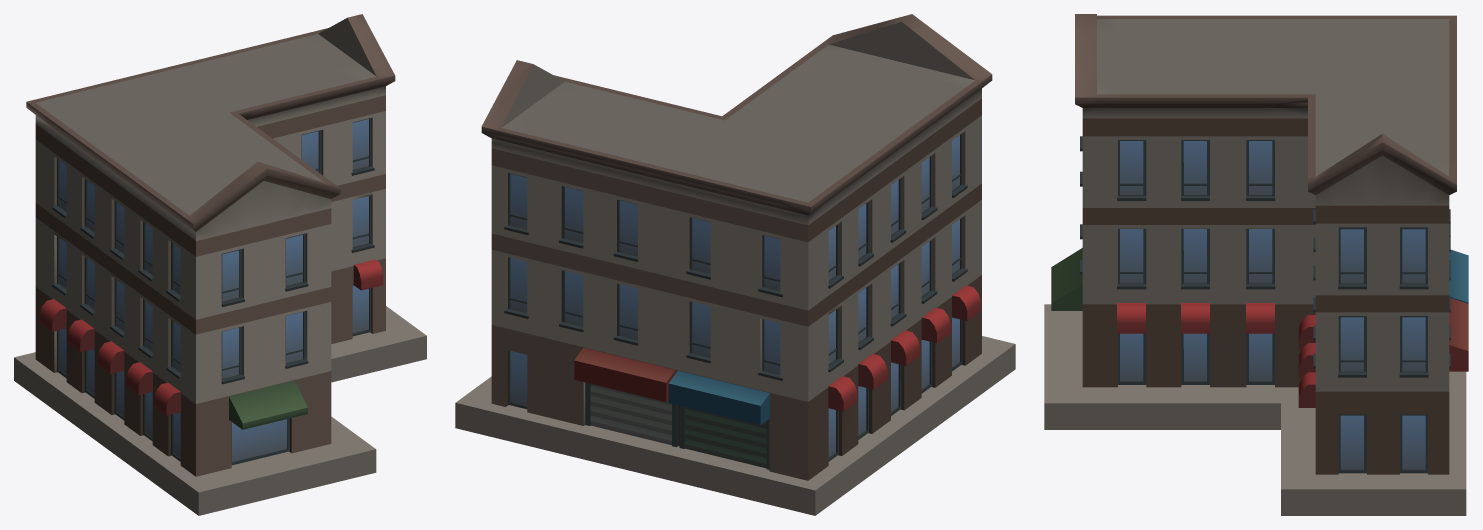
File: Business_CommercialBuilding_alt04.glb
3 renders of one model, left to right at view 1: azimuth 30°, elevation 25°; view 2: azimuth 150°, elevation 25°; view 3: azimuth 270°, elevation 25°, orthographic. The views are drawn at different scales.
Parts seen in each view (by area): view 1: base.078, windowRefl.060, color.007; view 2: base.078, windowRefl.060, color.007; view 3: base.078, windowRefl.060, color.007.
Boxes of the visible parts, left/top/right/bottom form: base.078: left=14, top=14, right=426, bottom=515; windowRefl.060: left=59, top=119, right=368, bottom=462; color.007: left=39, top=259, right=383, bottom=429; base.078: left=455, top=14, right=1015, bottom=515; windowRefl.060: left=510, top=135, right=959, bottom=457; color.007: left=574, top=285, right=980, bottom=425; base.078: left=1044, top=14, right=1466, bottom=515; windowRefl.060: left=1120, top=141, right=1425, bottom=469; color.007: left=1051, top=248, right=1468, bottom=407.
Bounding box in the file's own units: 23.31 × 21.3 × 22.58.
